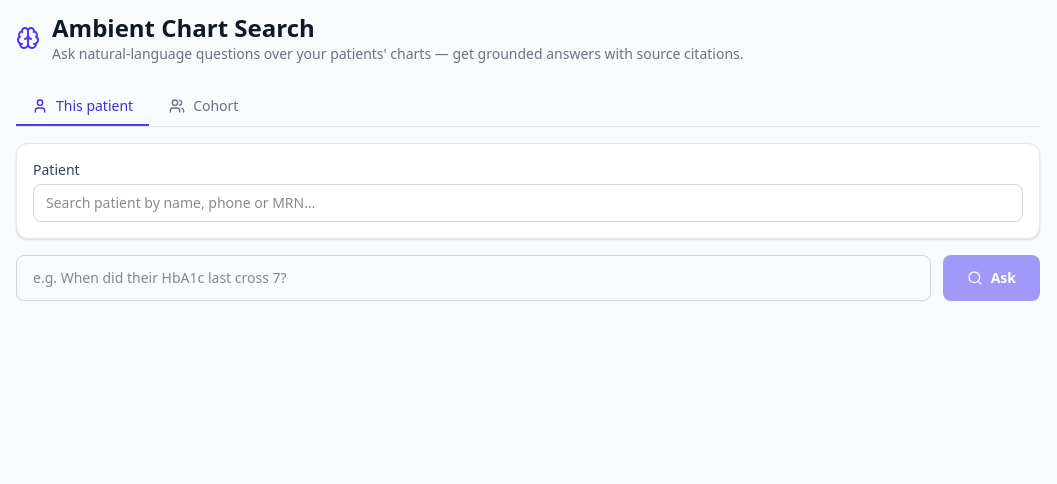
Test case: Ambient Chart Search dashboard page › renders empty-state copy for zero hits
The image size is (1057, 484).
Click the tab "Cohort".
click(204, 107)  # box [153,88,254,126]
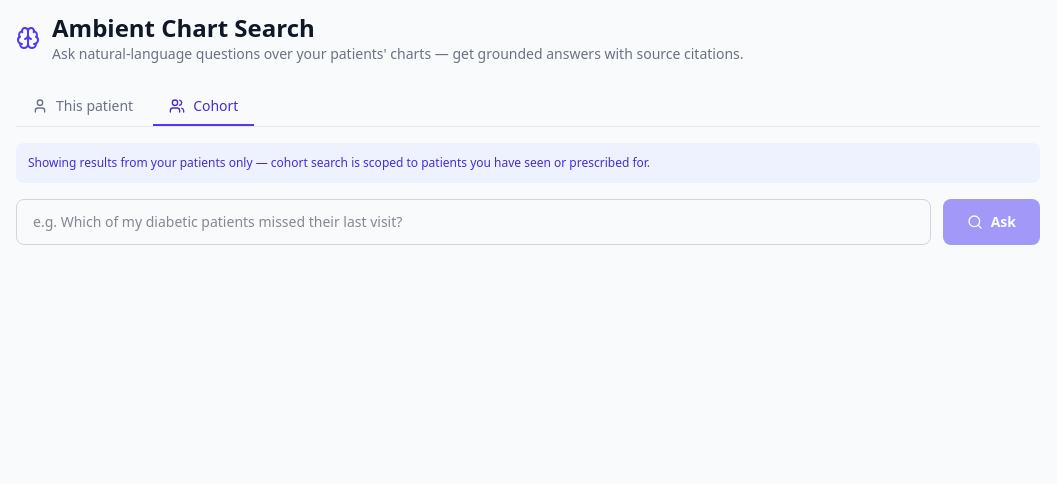
Type "Q" into the field with placeholder "e.g. Which of my diabetic patients missed their last visit?".
click(473, 222); type("Q")  # box [16,199,931,245]
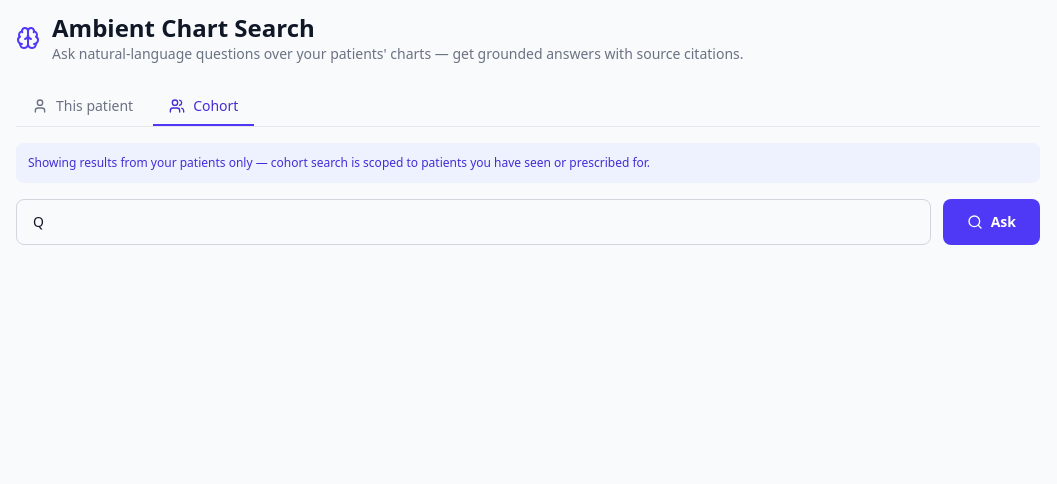
Click the button "Ask".
click(991, 222)  # box [943,199,1040,245]
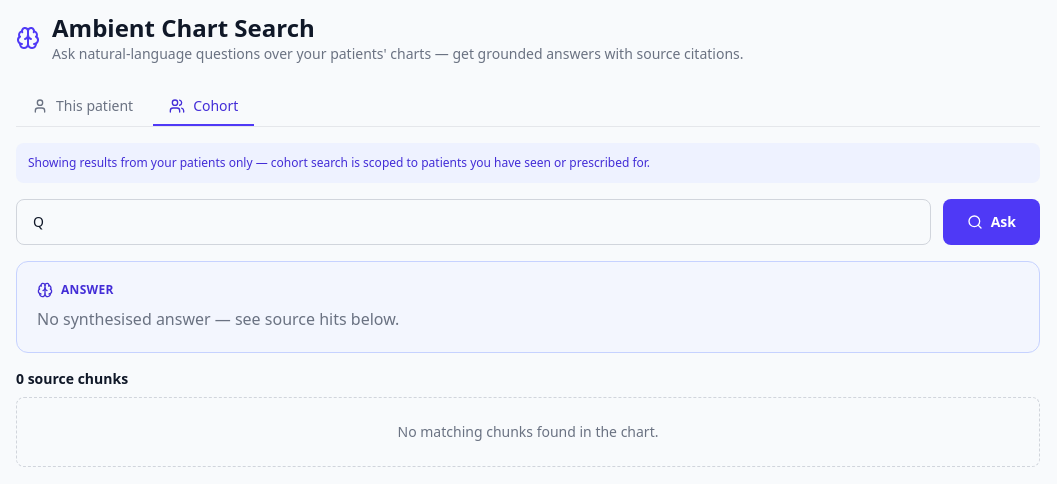
Check: the text "No matching chunks found in the chart." is shown, box [16,397,1040,467]
Check: the heading "0 source chunks" is shown, box [16,369,128,388]
Check: the text "No synthesised answer — see source hits below." is shown, box [37,308,399,330]
